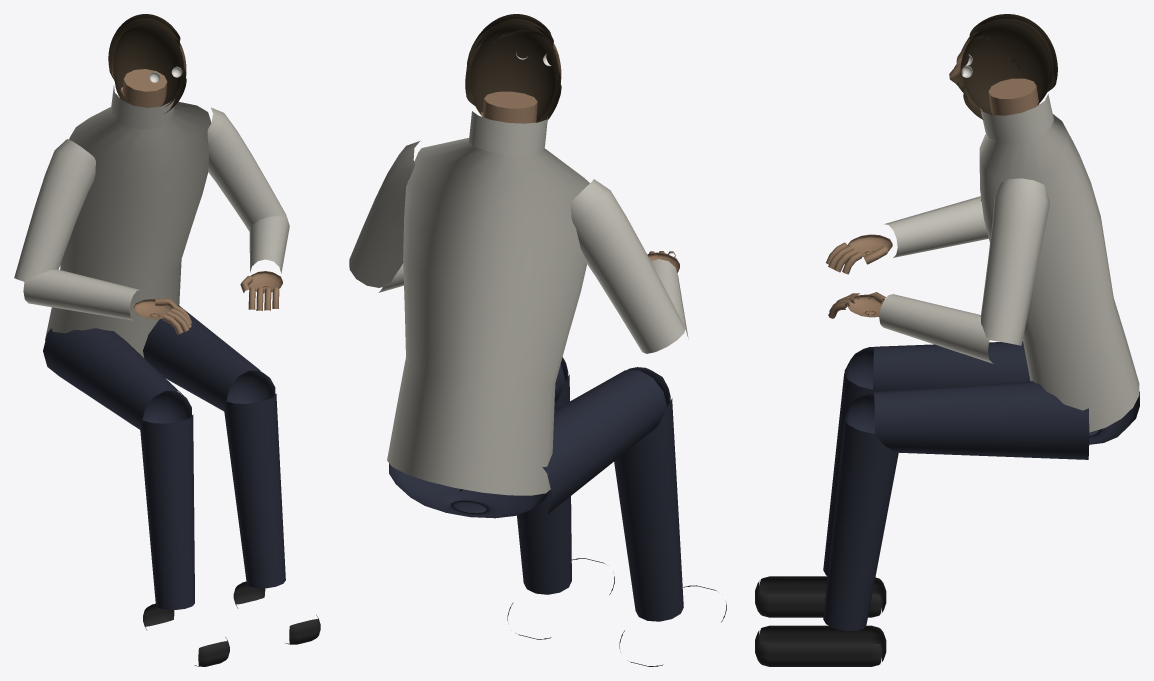
Rendered from damage_control_seated.glb.
3 renders of one model, left to right at view 1: azimuth 30°, elevation 25°; view 2: azimuth 150°, elevation 25°; view 3: azimuth 270°, elevation 25°, orthographic. The views are drawn at different scales.
Visible parts, largest first — view 1: body, head; view 2: body, head; view 3: body, head.
Boxes of the visible parts, x1=… form: body: x1=14, y1=69, x2=320, y2=666; head: x1=108, y1=14, x2=186, y2=112; body: x1=349, y1=91, x2=726, y2=666; head: x1=465, y1=14, x2=561, y2=122; body: x1=755, y1=78, x2=1139, y2=666; head: x1=949, y1=14, x2=1057, y2=119.
Size of the model in its own units: 0.7066 by 1.41 by 0.7922.
